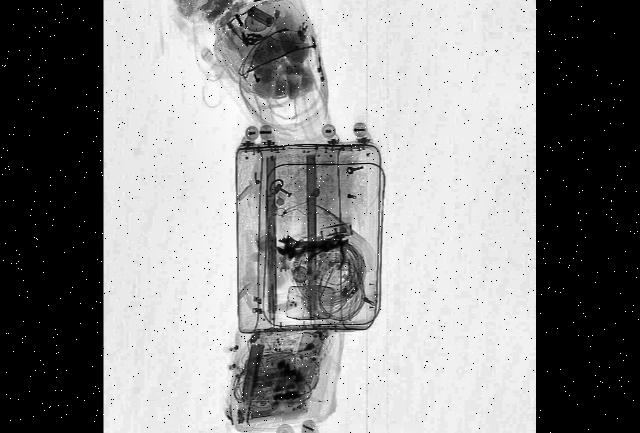Pliers: (307, 216, 354, 294)
Wrench: (278, 233, 344, 256)
